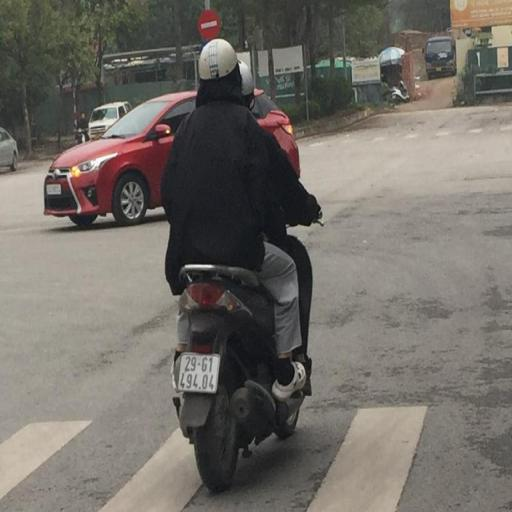bike: (160, 39, 324, 494)
numberplate: (177, 349, 222, 396)
with helmet: (197, 40, 240, 80), (237, 54, 256, 106)
